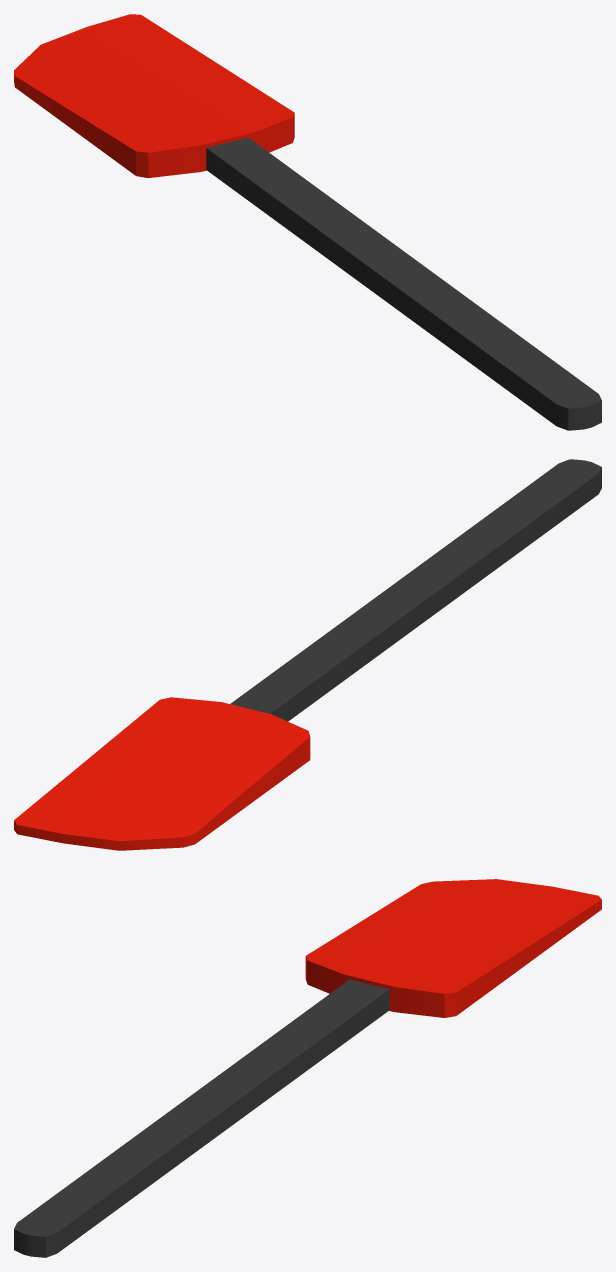
File: Rubber_Spatula_3.FBX
3 views of the same model, one above another, from view 1: azimuth 30°, elevation 25°; view 2: azimuth 150°, elevation 25°; view 3: azimuth 330°, elevation 25° (orthographic). The views are drawn at different scales.
Visible parts, largest first — view 1: Rubber_Spatula; view 2: Rubber_Spatula; view 3: Rubber_Spatula.
Boxes of the visible parts, left/top/right/bottom form: Rubber_Spatula: left=14, top=14, right=601, bottom=430; Rubber_Spatula: left=14, top=459, right=601, bottom=850; Rubber_Spatula: left=14, top=879, right=601, bottom=1257.
Bounding box in the file's own units: 15 × 2.41 × 86.77.
